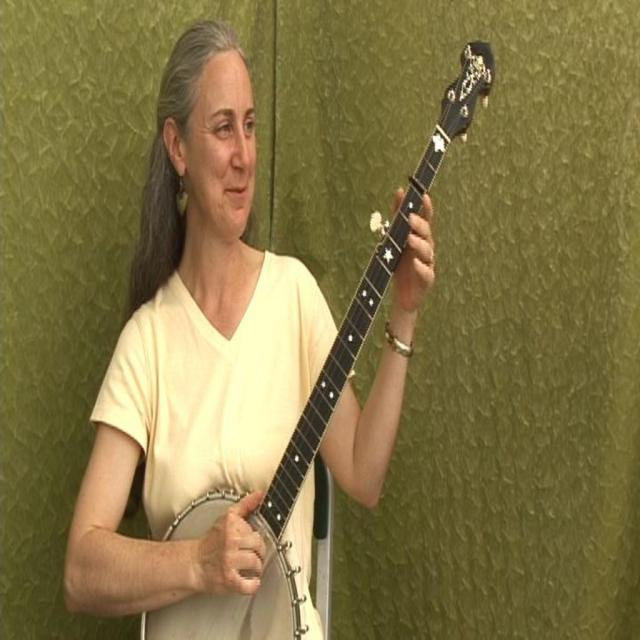Face: (193, 56, 261, 248)
